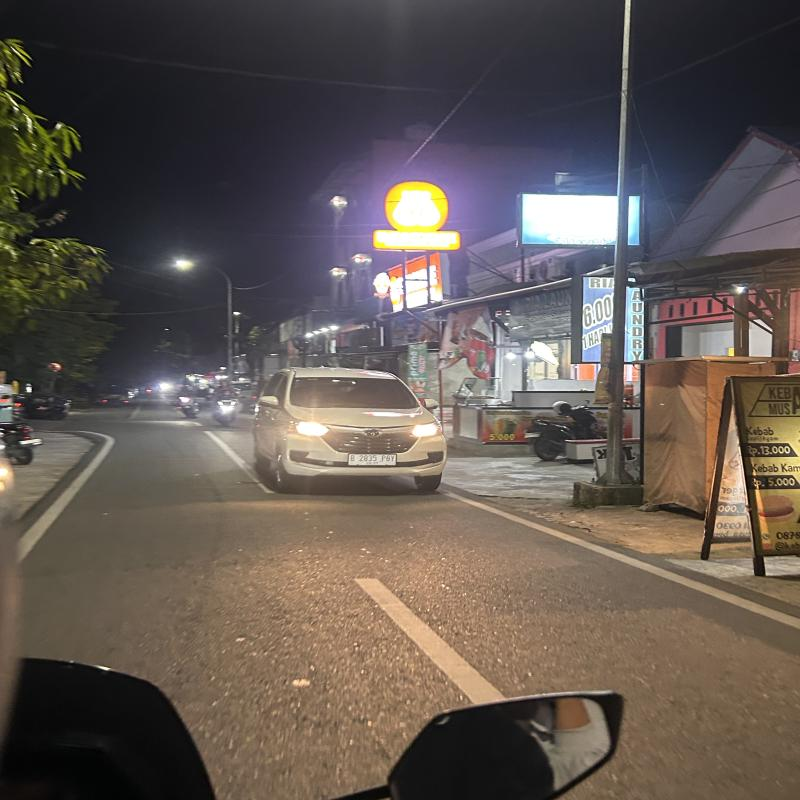license plate on a car: (346, 449, 401, 466)
